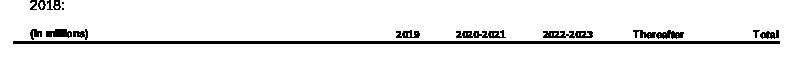table: (0, 0, 804, 71)
